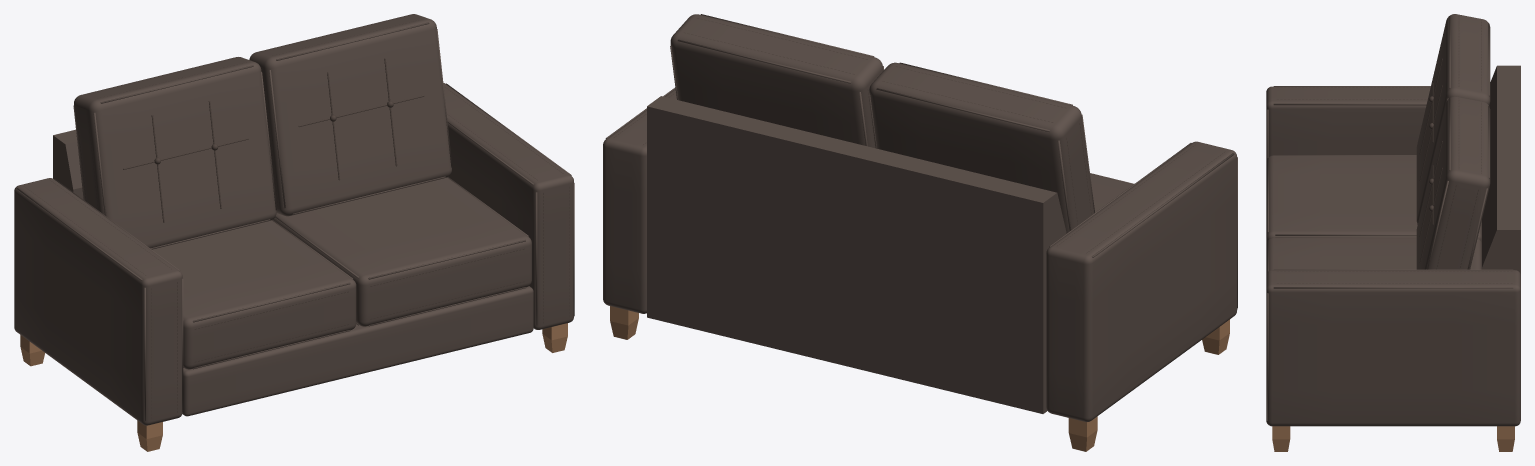
Rendered from benza_160x85.glb.
3 renders of one model, left to right at view 1: azimuth 30°, elevation 25°; view 2: azimuth 150°, elevation 25°; view 3: azimuth 270°, elevation 25°, orthographic. The views are drawn at different scales.
Visible parts, largest first — view 1: p1, p2, p0; view 2: p1, p0, p2; view 3: p1, p2, p0.
Part boxes in pixels (x1=…): p1: x1=14, y1=14, x2=574, y2=425; p2: x1=23, y1=15, x2=569, y2=418; p0: x1=20, y1=323, x2=567, y2=451; p1: x1=603, y1=14, x2=1237, y2=421; p0: x1=610, y1=306, x2=1229, y2=451; p2: x1=613, y1=18, x2=1225, y2=253; p1: x1=1266, y1=14, x2=1520, y2=426; p2: x1=1277, y1=16, x2=1512, y2=283; p0: x1=1272, y1=426, x2=1514, y2=451.
Size of the model in its own units: 1.6 by 0.9642 by 0.8506.
Materials: 3 (2 with a texture image).
